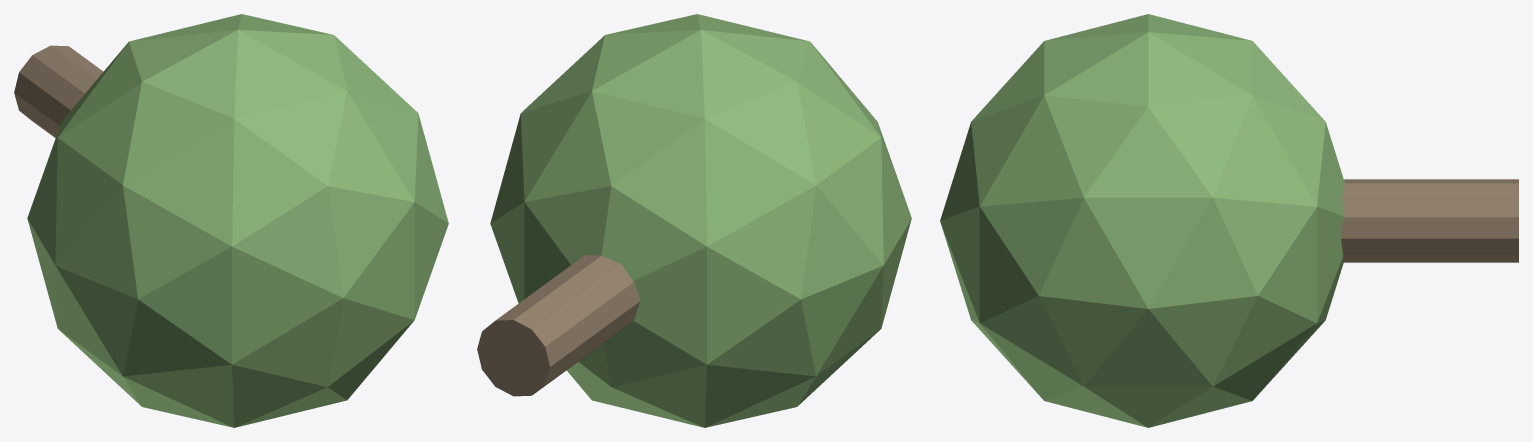
Rendered from shrub.glb.
3 views of the same model, side by side, from view 1: azimuth 30°, elevation 25°; view 2: azimuth 150°, elevation 25°; view 3: azimuth 270°, elevation 25° (orthographic).
Visible parts, largest first — view 1: g1, g0; view 2: g1, g0; view 3: g1, g0.
Boxes of the visible parts, left/top/right/bottom form: g1: left=27, top=14, right=448, bottom=427; g0: left=14, top=45, right=103, bottom=137; g1: left=490, top=14, right=911, bottom=427; g0: left=477, top=255, right=639, bottom=396; g1: left=940, top=14, right=1344, bottom=427; g0: left=1341, top=179, right=1518, bottom=262.
Size of the model in its own units: 1.8 by 1.8 by 2.5.
